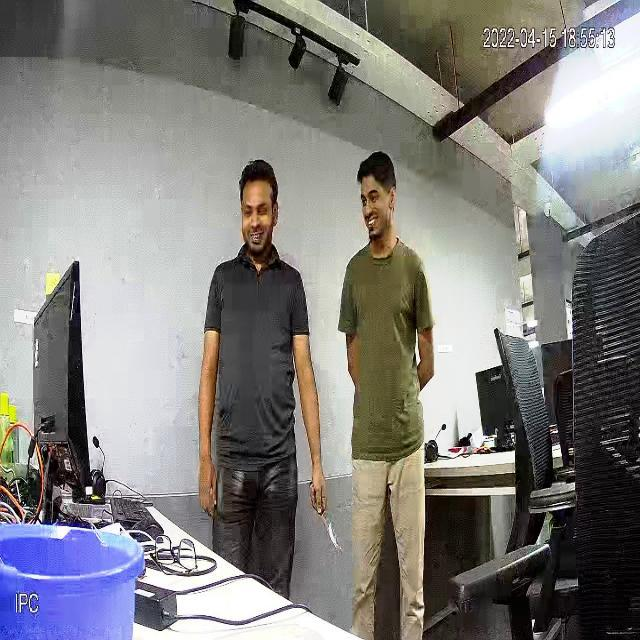Knife: (308, 481, 352, 556)
